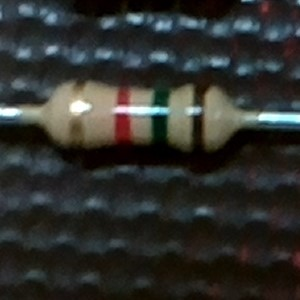brown_band: (188, 79, 214, 154)
gold_band: (66, 76, 90, 152)
green_band: (148, 84, 174, 148)
red_band: (112, 84, 134, 149)
